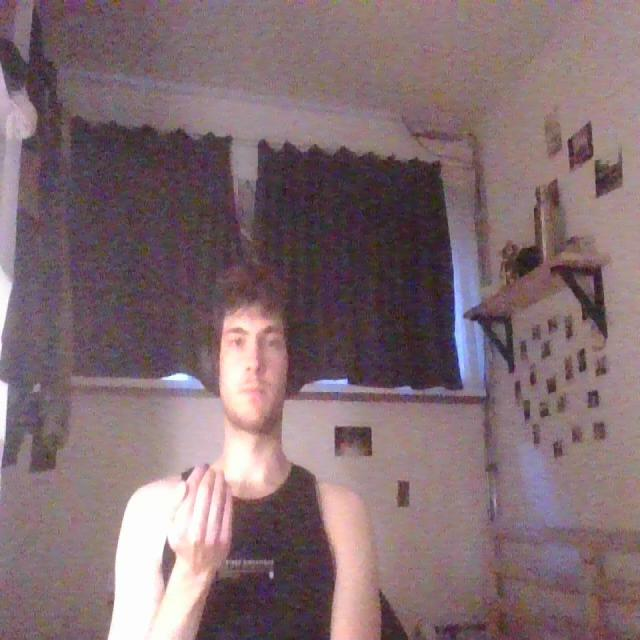forward: (167, 456, 234, 579)
